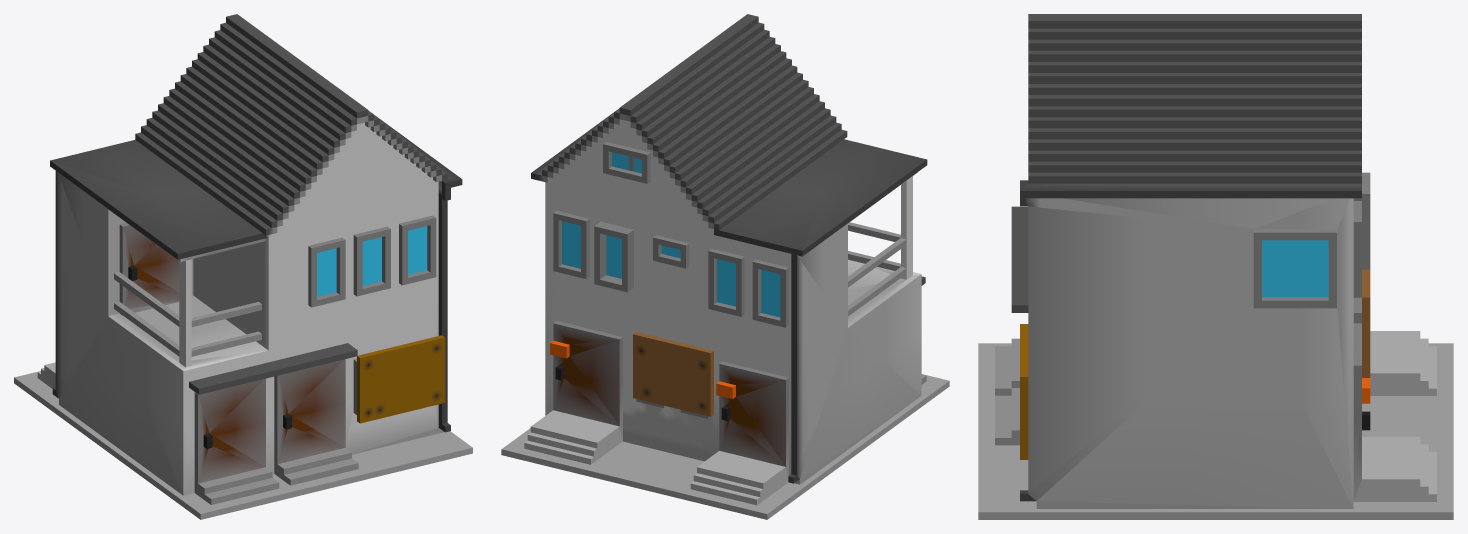
The model's file is obj_house8.fbx.
3 views of the same model, side by side, from view 1: azimuth 30°, elevation 25°; view 2: azimuth 150°, elevation 25°; view 3: azimuth 270°, elevation 25° (orthographic). The views are drawn at different scales.
Parts seen in each view (by area): view 1: obj_house8; view 2: obj_house8; view 3: obj_house8.
Part boxes in pixels (box(x1,y1,x2,y2)): obj_house8: box(14, 14, 472, 519); obj_house8: box(501, 14, 949, 519); obj_house8: box(978, 14, 1453, 519).
Size of the model in its own units: 4.9 by 5.7 by 5.9.
Materials: 1 (1 with a texture image).
